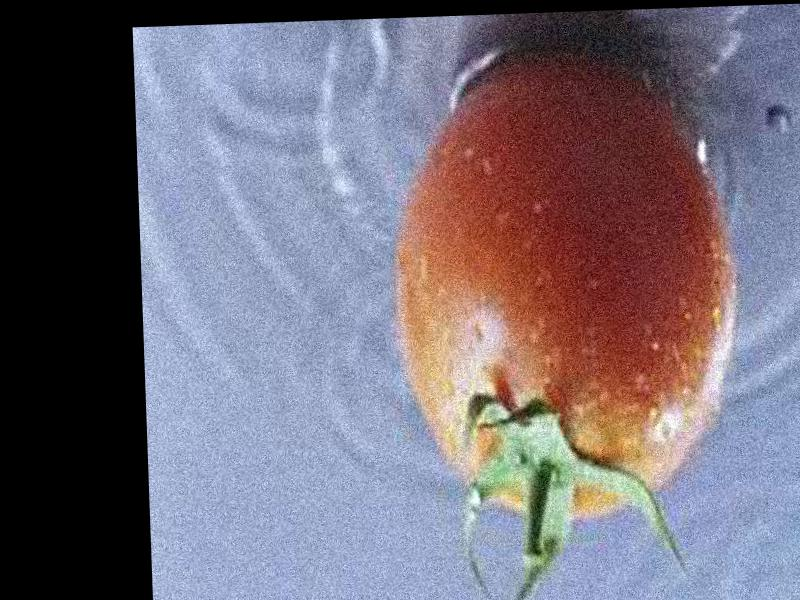Tomato: (389, 46, 739, 521)
